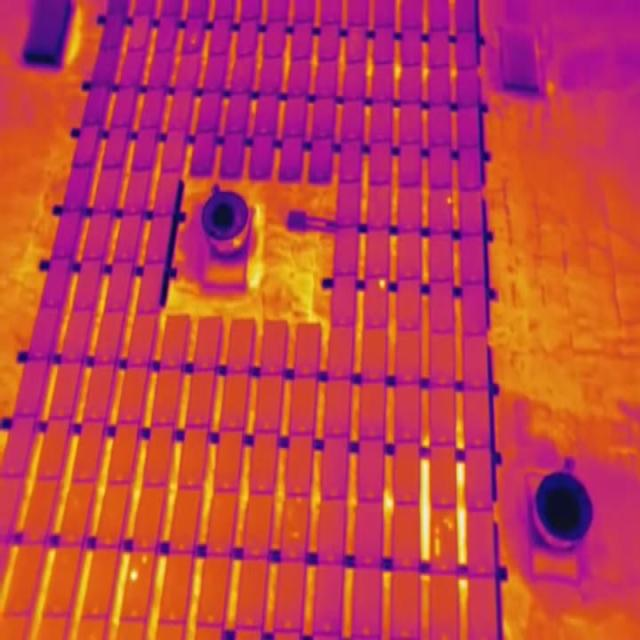Orange-Spots: (434, 525, 441, 556), (443, 516, 454, 530), (130, 569, 140, 582), (378, 279, 386, 289), (142, 556, 148, 566), (292, 532, 300, 539), (446, 197, 452, 205), (191, 36, 196, 45)
